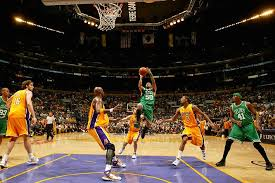ball: (138, 66, 149, 77)
hoop: (92, 2, 123, 31)
